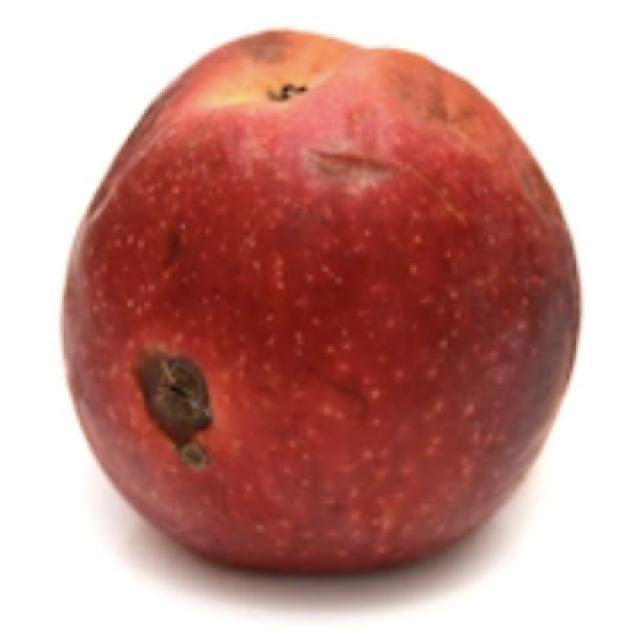Rotten: (93, 45, 552, 522)
